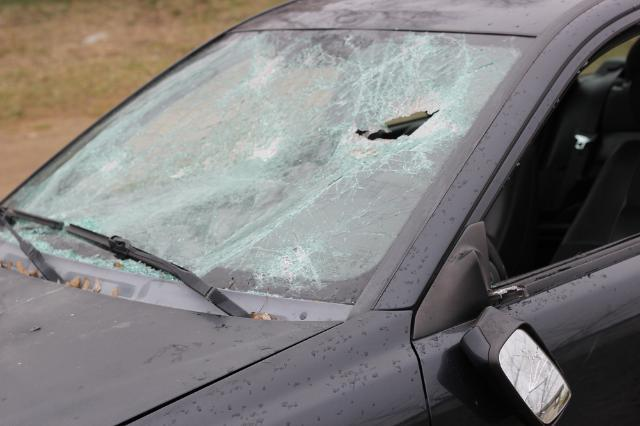glass shatter: (0, 29, 534, 305)
